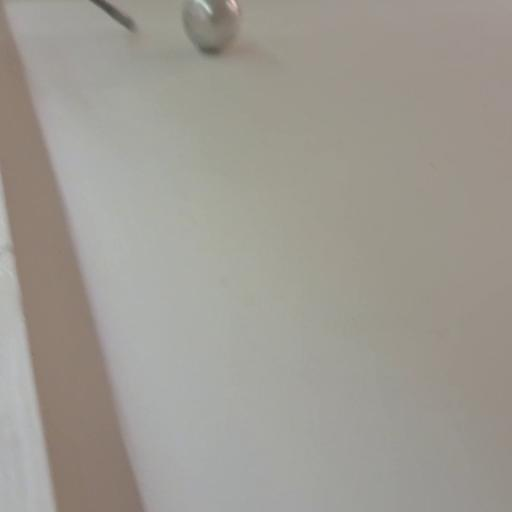alive: (181, 0, 244, 56)
